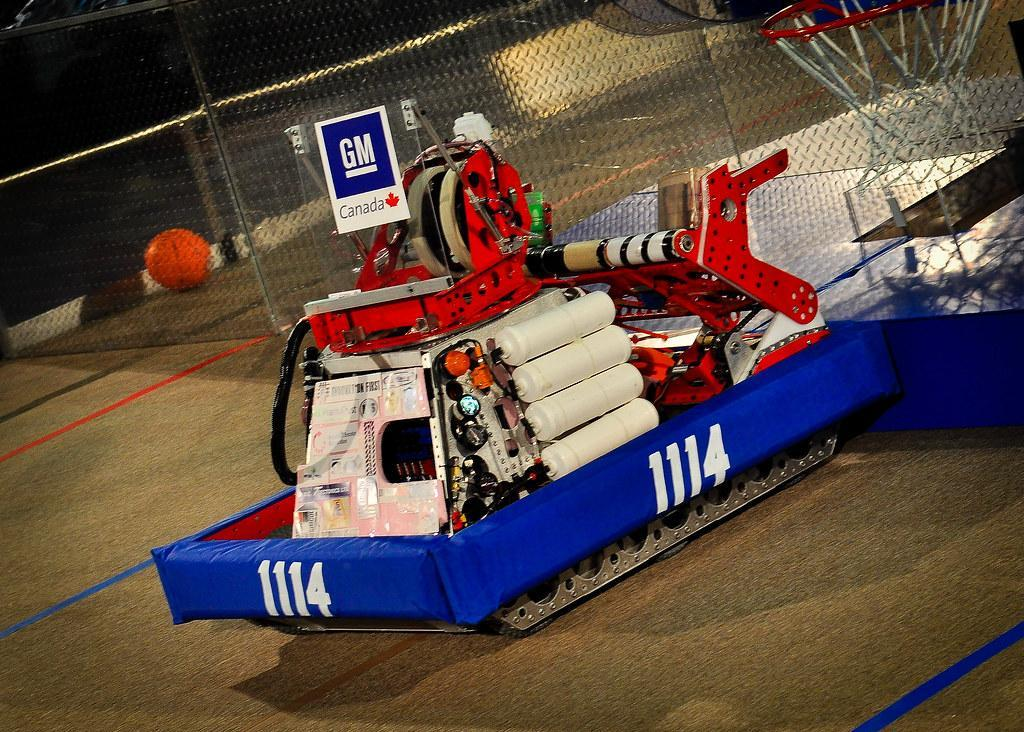robot: (153, 93, 906, 648)
